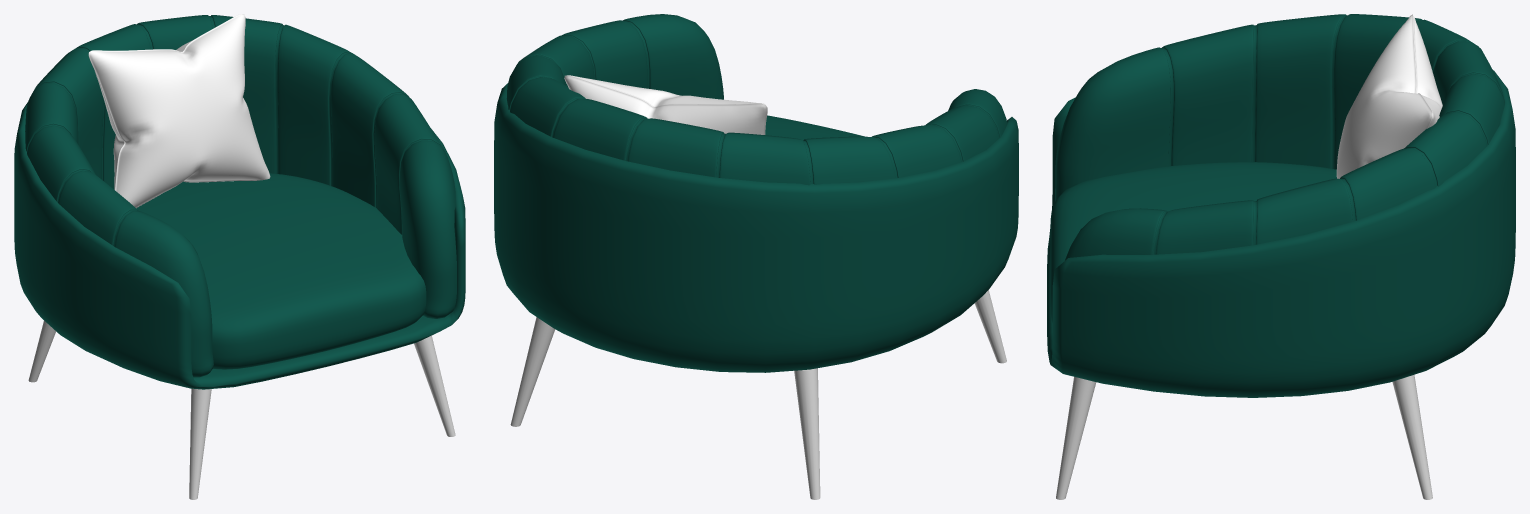
File: CHAIR 1.gltf
The picture shows the model from 3 angles, left to right: view 1: azimuth 30°, elevation 25°; view 2: azimuth 150°, elevation 25°; view 3: azimuth 270°, elevation 25°; orthographic projection. The views are drawn at different scales.
Visible parts, largest first — view 1: Cube.001_3, Cube.002_4, Cube_2, Plane_6, Cylinder_5; view 2: Cube_2, Cube.001_3, Plane_6, Cylinder_5, Cube.002_4; view 3: Cube_2, Cube.001_3, Cube.002_4, Plane_6, Cylinder_5.
Boxes of the visible parts, left/top/right/bottom form: Cube.001_3: left=25, top=15, right=456, bottom=377; Cube.002_4: left=136, top=173, right=426, bottom=369; Cube_2: left=14, top=102, right=465, bottom=389; Plane_6: left=88, top=14, right=270, bottom=208; Cylinder_5: left=28, top=320, right=455, bottom=499; Cube_2: left=494, top=83, right=1018, bottom=372; Cube.001_3: left=506, top=14, right=1007, bottom=185; Plane_6: left=564, top=75, right=767, bottom=134; Cylinder_5: left=510, top=290, right=1006, bottom=499; Cube.002_4: left=765, top=115, right=864, bottom=140; Cube_2: left=1047, top=69, right=1515, bottom=397; Cube.001_3: left=1055, top=14, right=1504, bottom=260; Cube.002_4: left=1050, top=162, right=1336, bottom=322; Plane_6: left=1336, top=14, right=1442, bottom=178; Cylinder_5: left=1056, top=375, right=1432, bottom=499.
Size of the model in its own units: 1.69 by 1.39 by 1.6.
